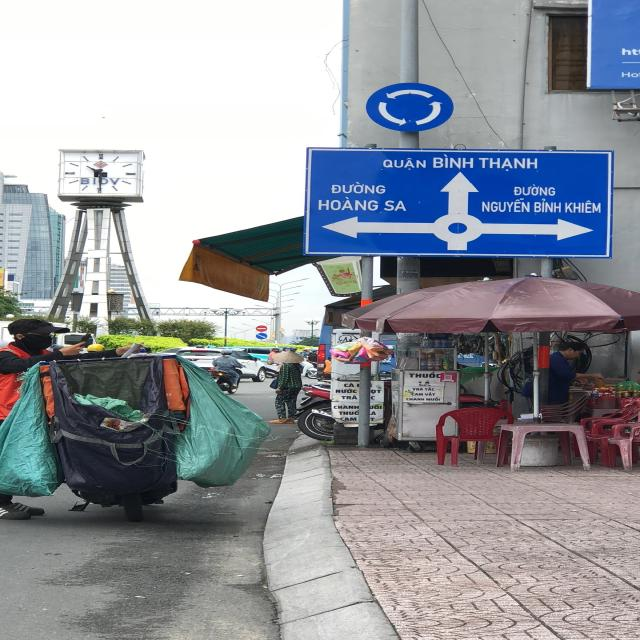Bien bao noi giao nhau chay theo vong xuyen: (356, 77, 467, 134)
